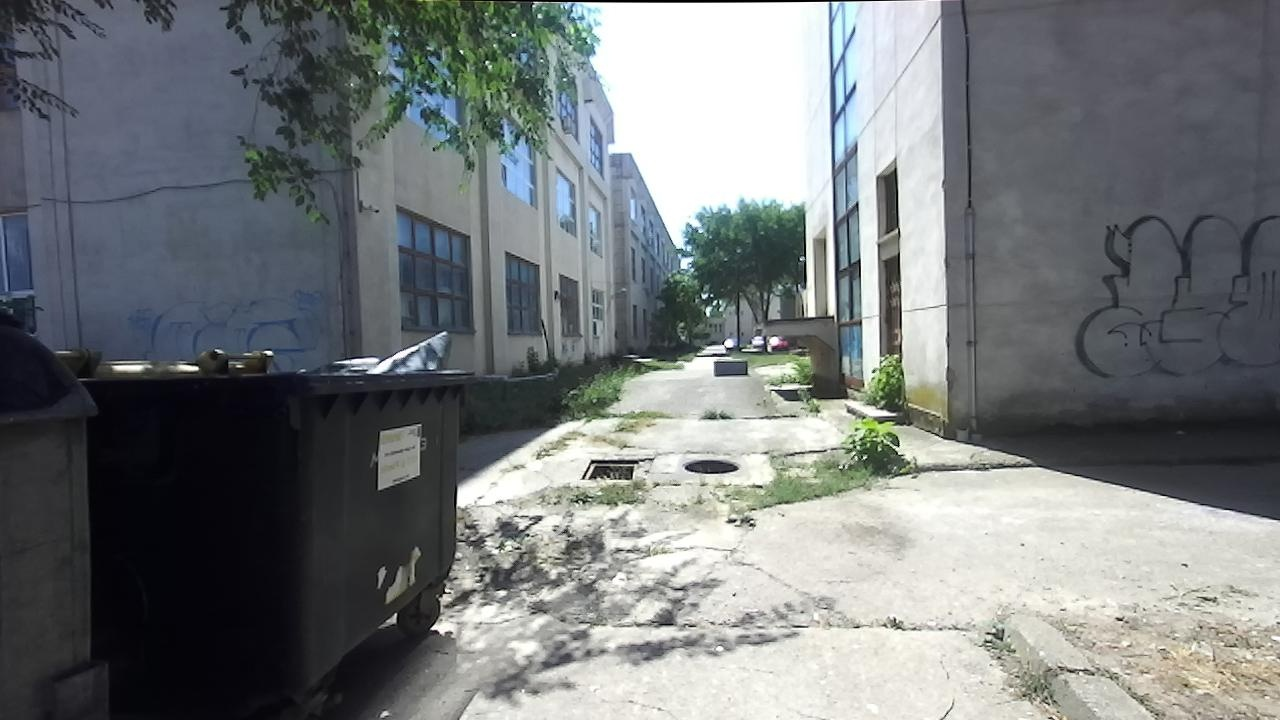drain: (678, 452, 744, 478), (575, 457, 640, 483)
